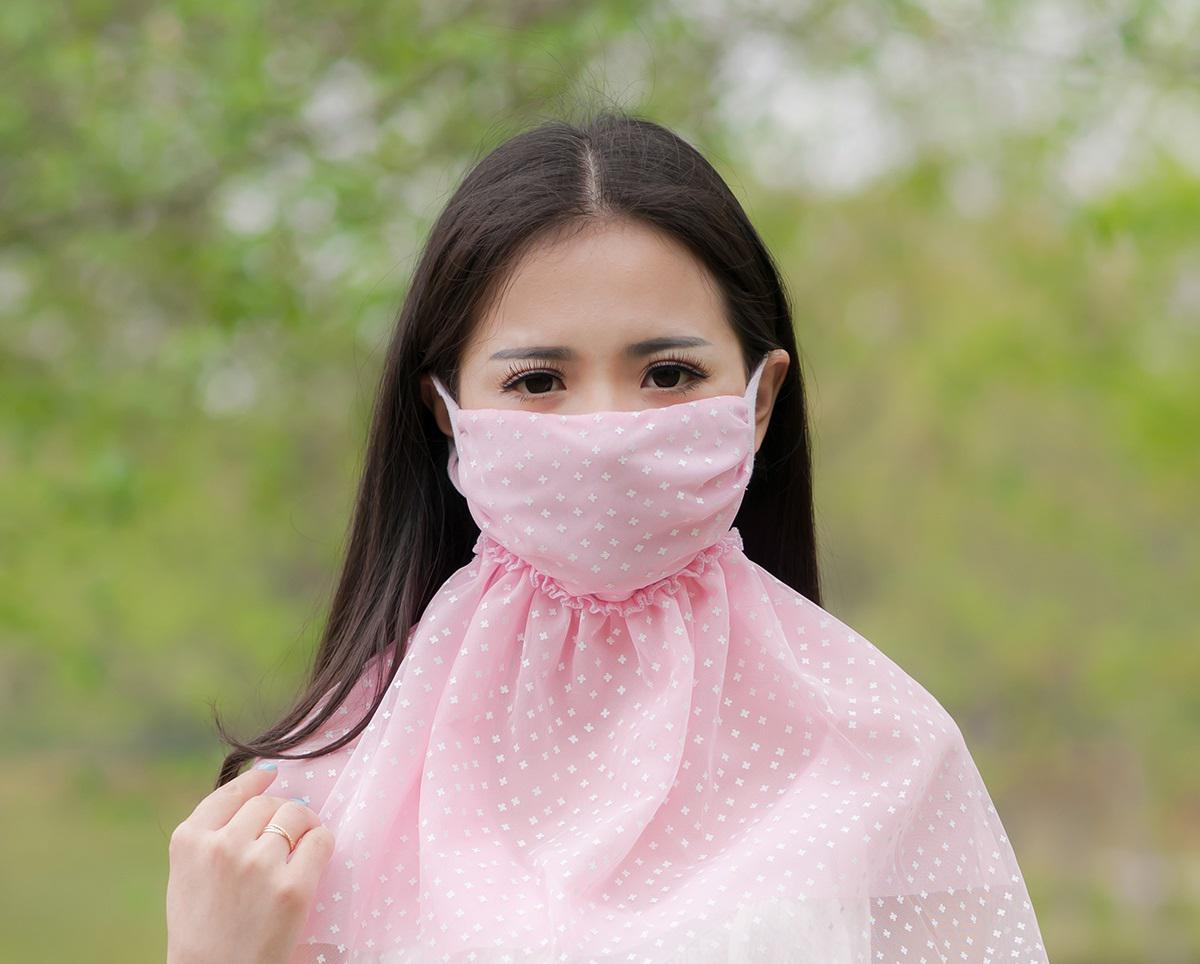OK: (464, 279, 748, 593)
